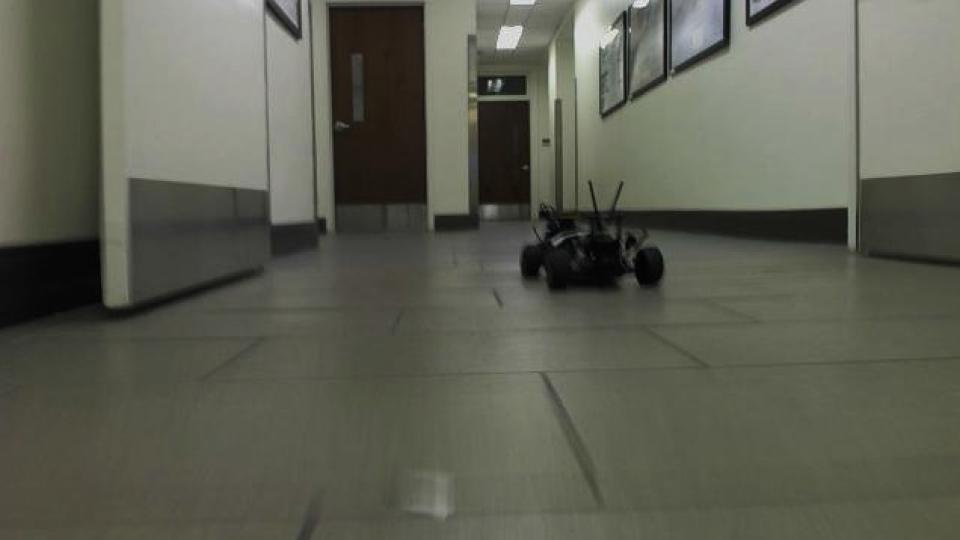car: (515, 176, 667, 292)
